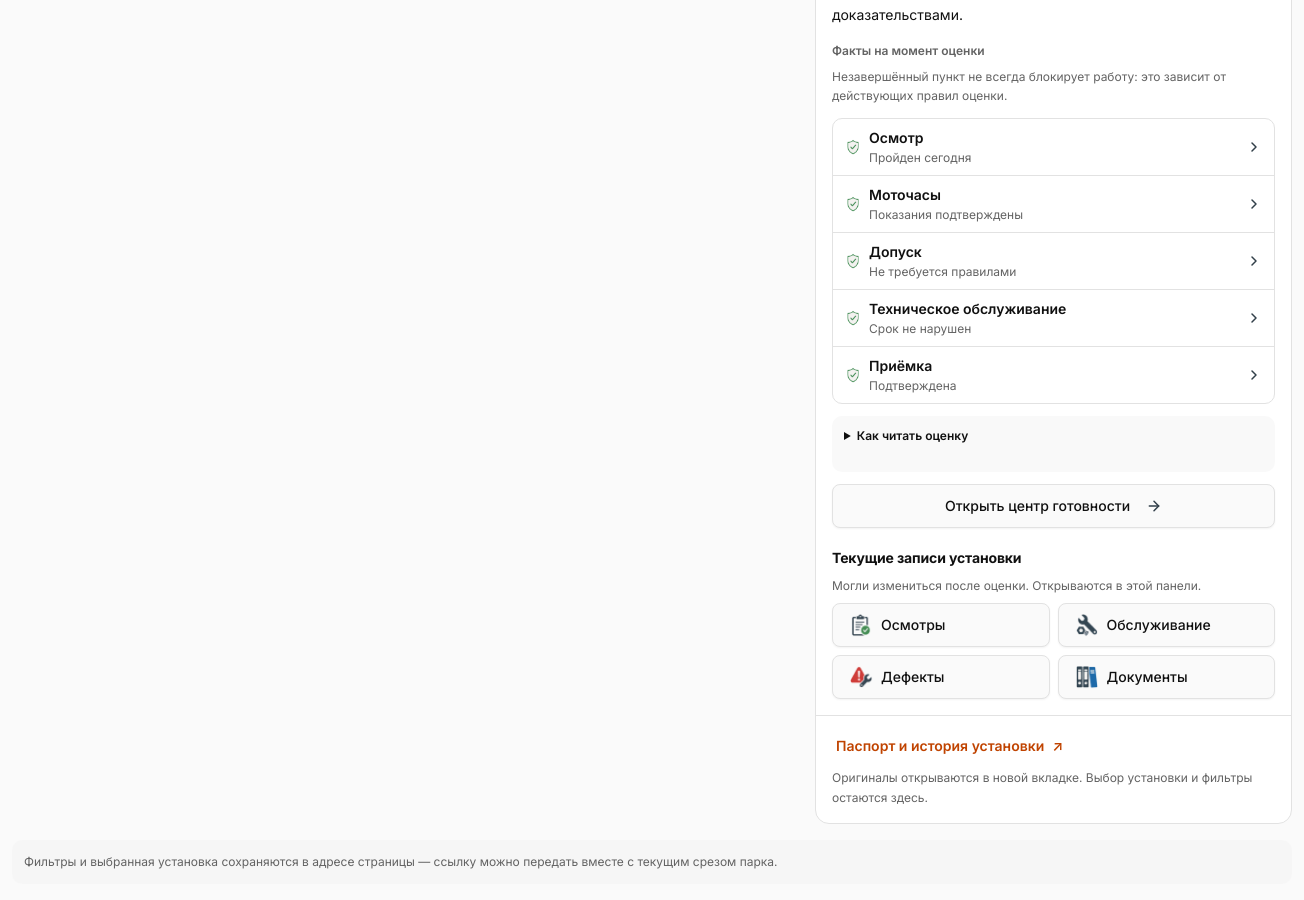
Test: Fleet evidence interactions › shows the journal load failure for the selected machine instead of an empty journal
(page scrolled)
Click the button "Обслуживание": point(1166, 625) [1058, 603, 1275, 647]
(page scrolled)
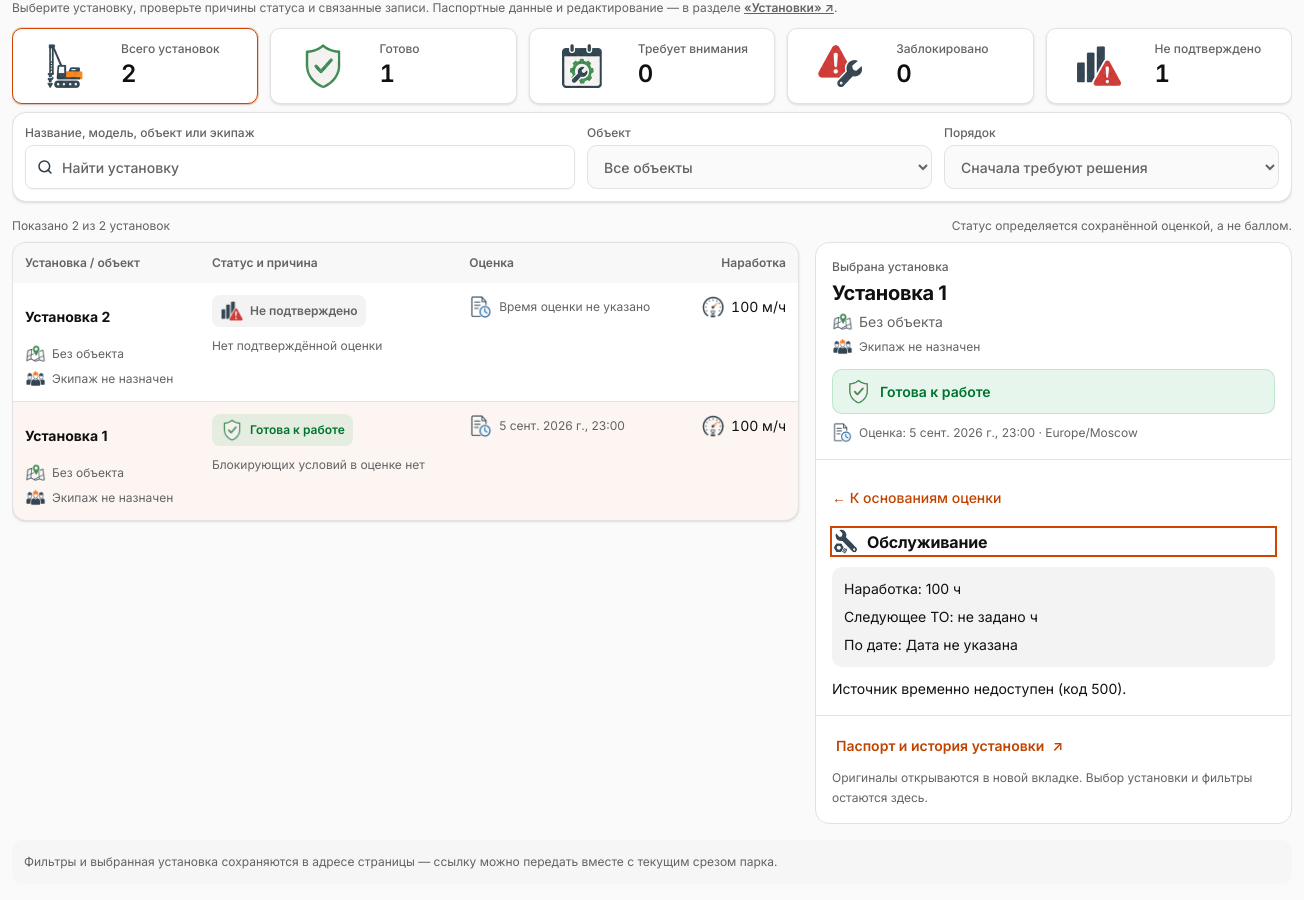
Expected: the message "Источник временно недоступен (код 500)." is shown, [832, 680, 1126, 697]
